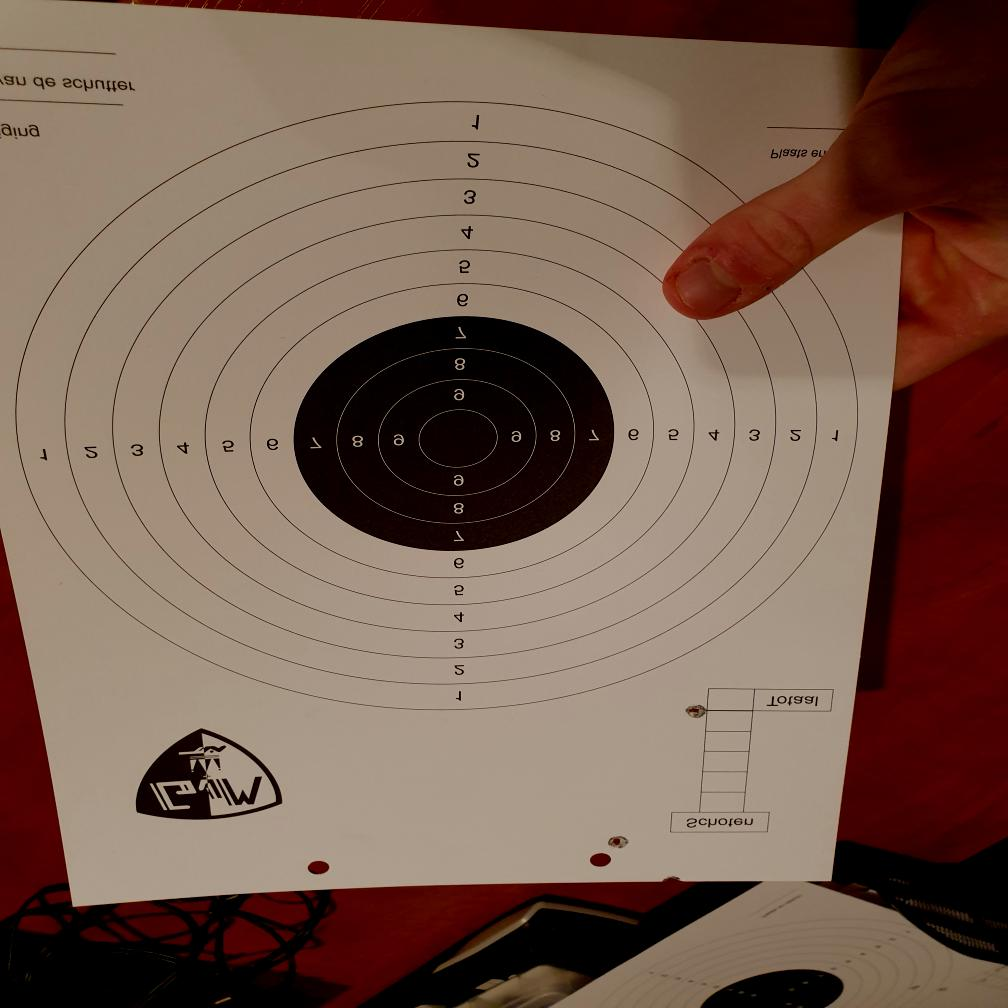0: (683, 703, 709, 719), (606, 835, 630, 850), (662, 875, 682, 882)
Target: (12, 96, 857, 716)
black_contour: (294, 316, 614, 553)
